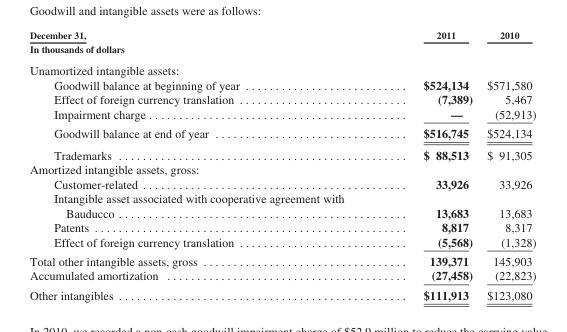table: (29, 28, 535, 301)
table column: (29, 28, 383, 301), (383, 28, 479, 301), (479, 28, 535, 301)
table column header: (29, 28, 535, 41)
table projected row header: (29, 58, 535, 76), (29, 41, 535, 58), (29, 161, 535, 176)
table row: (29, 190, 535, 219), (29, 122, 535, 143), (29, 58, 535, 76), (29, 143, 535, 161), (29, 41, 535, 58), (29, 105, 535, 122), (29, 233, 535, 250), (29, 250, 535, 267), (29, 267, 535, 284), (29, 284, 535, 301), (29, 76, 535, 91), (29, 161, 535, 176), (29, 91, 535, 105), (29, 176, 535, 190), (29, 219, 535, 233), (29, 28, 535, 41)
